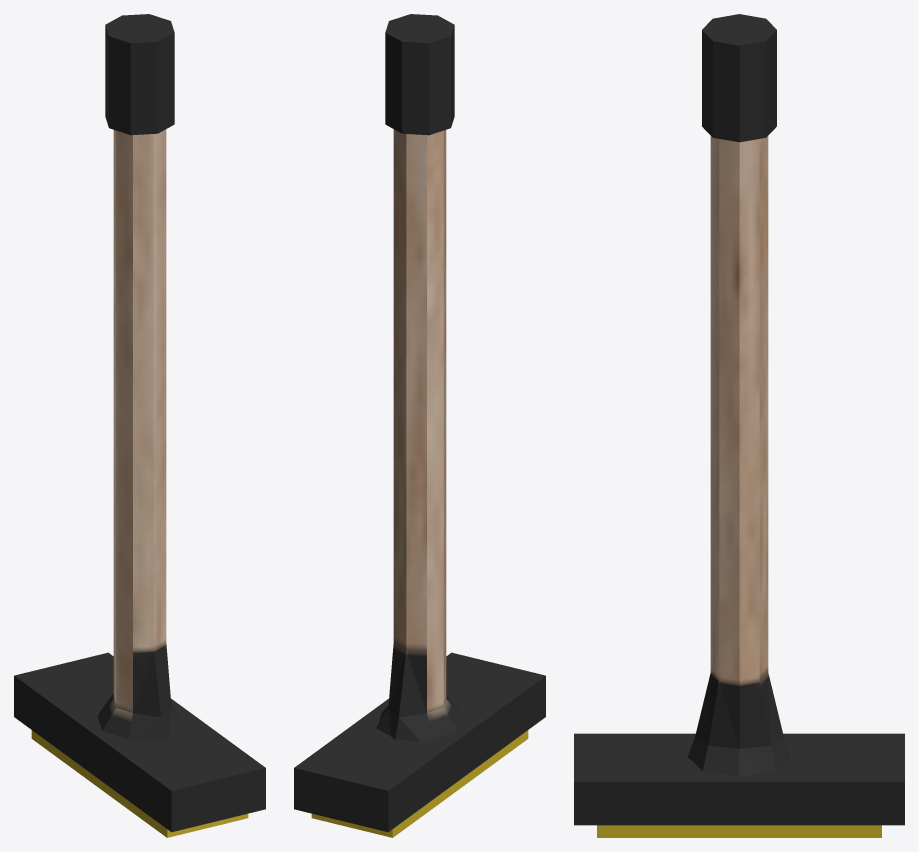
The model's file is Escoba.fbx.
3 views of the same model, side by side, from view 1: azimuth 30°, elevation 25°; view 2: azimuth 150°, elevation 25°; view 3: azimuth 270°, elevation 25° (orthographic). The views are drawn at different scales.
Parts seen in each view (by area): view 1: Escoba; view 2: Escoba; view 3: Escoba.
Boxes of the visible parts, x1,y1,x2,y2 form: Escoba: (14,14,265,837); Escoba: (294,14,545,837); Escoba: (574,14,904,837).
Bounding box in the file's own units: 20.16 × 153 × 58.31.
